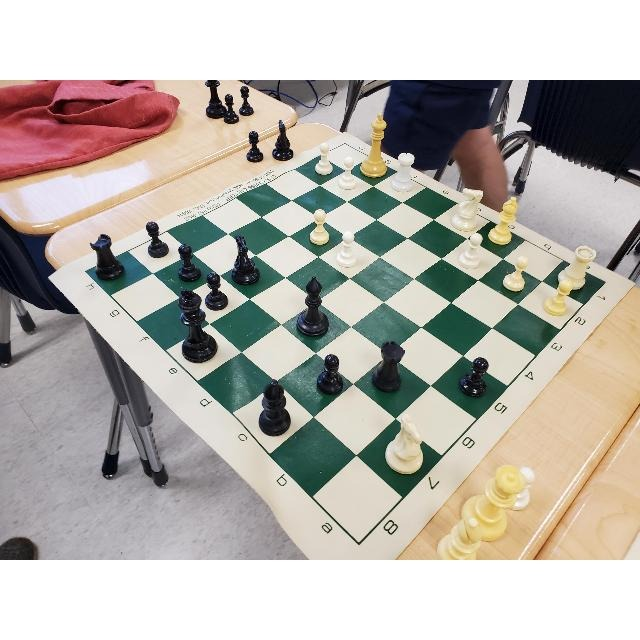black-bishop: (294, 274, 330, 338), (258, 379, 292, 439)
black-king: (177, 288, 219, 366)
black-knight: (230, 231, 262, 287)
black-pawn: (310, 351, 346, 397), (457, 356, 489, 398), (544, 279, 574, 317), (176, 243, 202, 283), (143, 220, 170, 258), (205, 272, 228, 312)
black-rook: (369, 338, 407, 395), (89, 234, 127, 284)
white-bishop: (489, 195, 519, 245)
white-king: (360, 114, 387, 178)
white-knight: (384, 410, 428, 477), (450, 186, 484, 233)
white-pawn: (499, 256, 529, 293), (456, 233, 483, 271), (335, 231, 359, 271), (308, 207, 331, 246), (336, 156, 358, 192), (315, 143, 333, 175)
white-rook: (555, 243, 596, 295), (389, 151, 415, 194)
